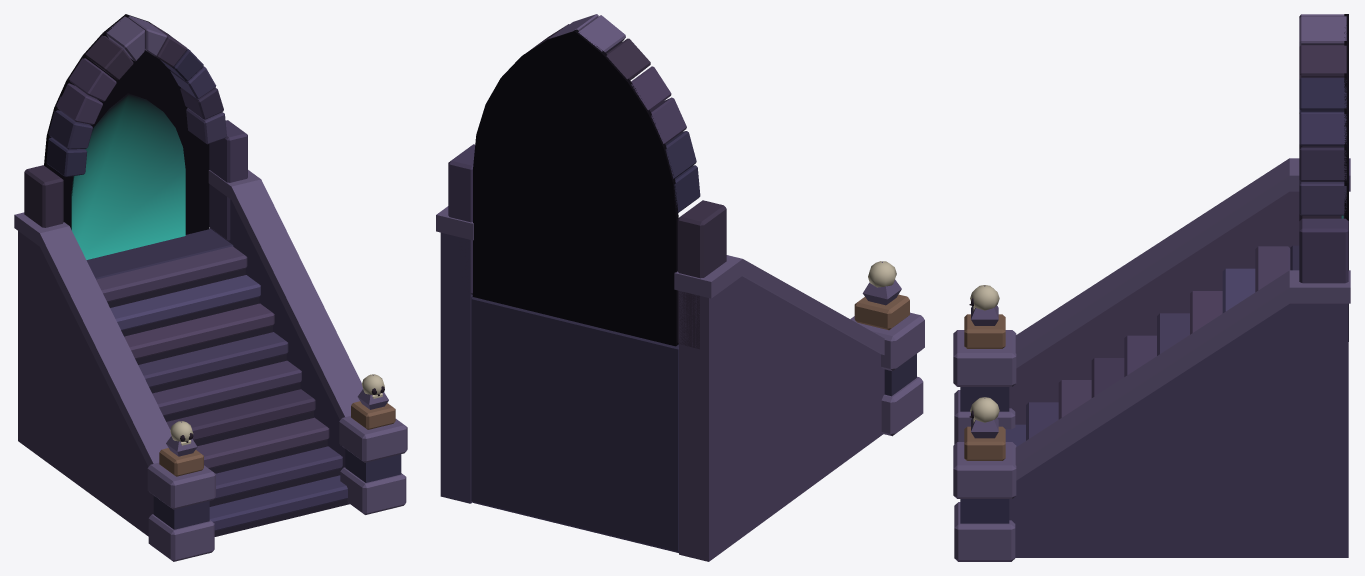
File: stairs_up.fbx
3 views of the same model, side by side, from view 1: azimuth 30°, elevation 25°; view 2: azimuth 150°, elevation 25°; view 3: azimuth 270°, elevation 25° (orthographic). The views are drawn at different scales.
Visible parts, largest first — view 1: stairs_up; view 2: stairs_up; view 3: stairs_up.
Boxes of the visible parts, x1=… form: stairs_up: x1=14, y1=14, x2=407, y2=561; stairs_up: x1=436, y1=14, x2=924, y2=561; stairs_up: x1=953, y1=14, x2=1350, y2=561.
Bounding box in the file's own units: 3.34 × 5.4 × 4.04.
